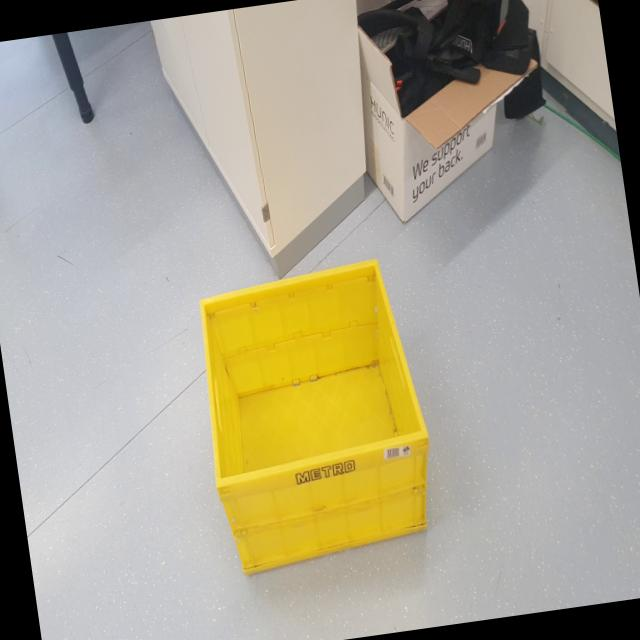box: (176, 237, 447, 586)
